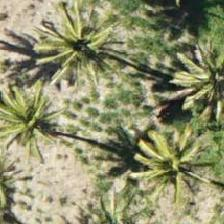coconut_tree: (114, 123, 204, 213), (22, 6, 112, 96), (0, 81, 80, 171), (159, 41, 223, 131)
